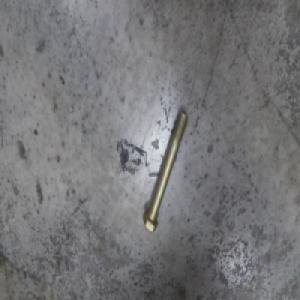Bolt: (143, 111, 188, 232)
